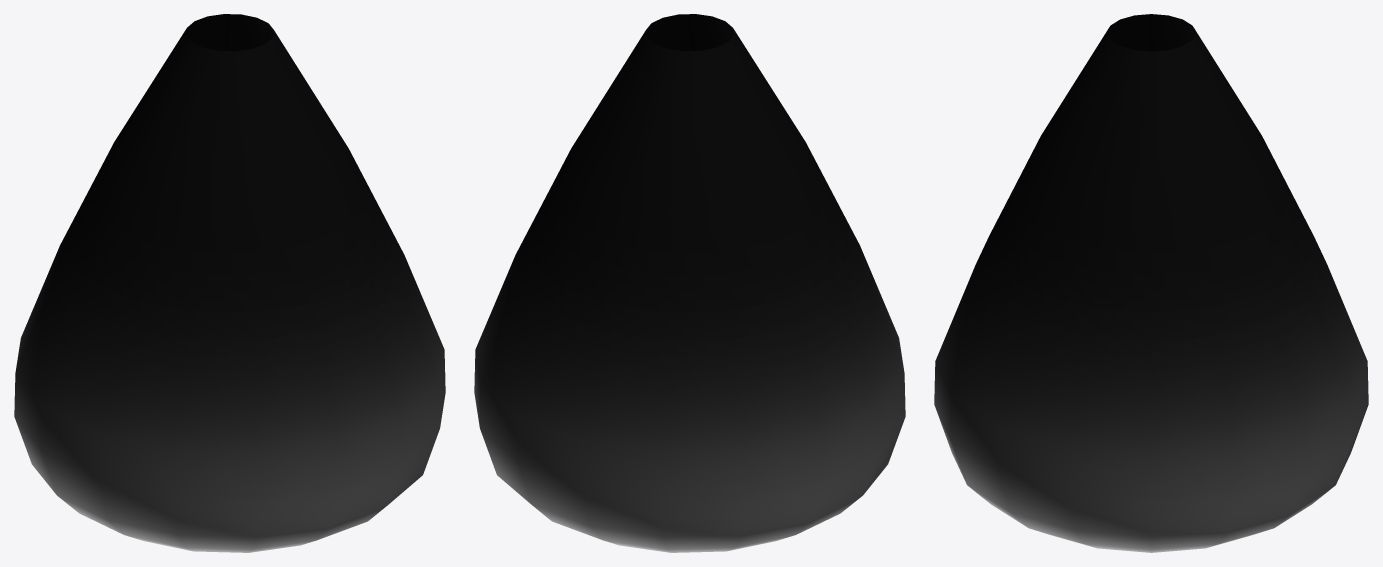
File: flame_mesh.fbx
The picture shows the model from 3 angles, left to right: view 1: azimuth 30°, elevation 25°; view 2: azimuth 150°, elevation 25°; view 3: azimuth 270°, elevation 25°; orthographic projection.
Parts seen in each view (by area): view 1: Cylinder; view 2: Cylinder; view 3: Cylinder.
Part boxes in pixels (<box>): Cylinder: <box>14,14,445,552</box>; Cylinder: <box>474,14,905,552</box>; Cylinder: <box>934,14,1368,552</box>.
Bounding box in the file's own units: 20.73 × 20.73 × 25.11.
Materials: 1 (1 with a texture image).
